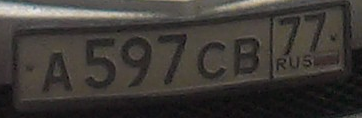character: (80, 36, 119, 90), (118, 34, 153, 92), (154, 30, 189, 88), (39, 49, 76, 97), (229, 37, 265, 81), (197, 38, 229, 84), (304, 13, 330, 52), (277, 16, 300, 55)
